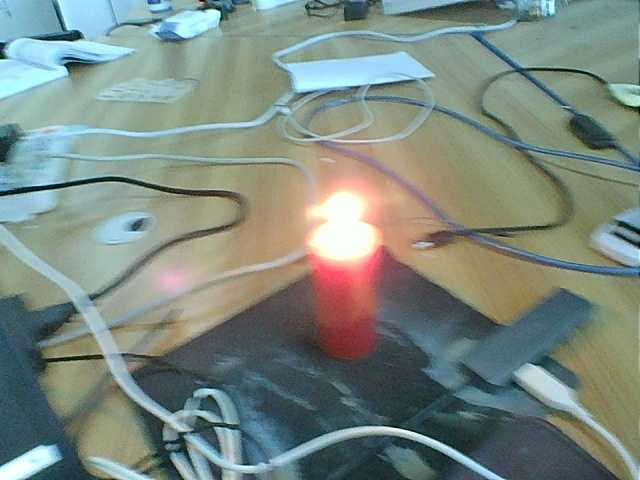candle: (295, 257, 390, 363)
fire: (302, 189, 381, 253)
